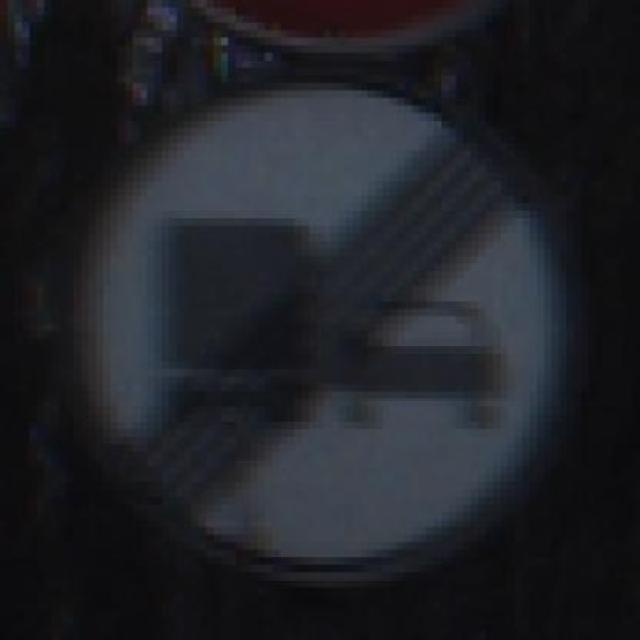Overtaking by trucks is prohibited: (44, 75, 604, 596)
